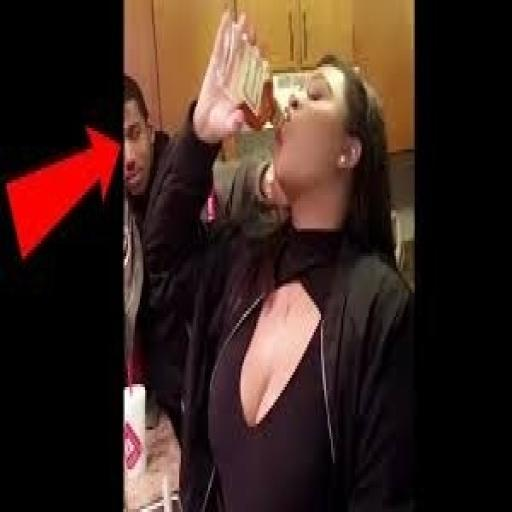drinking: (215, 9, 275, 131)
